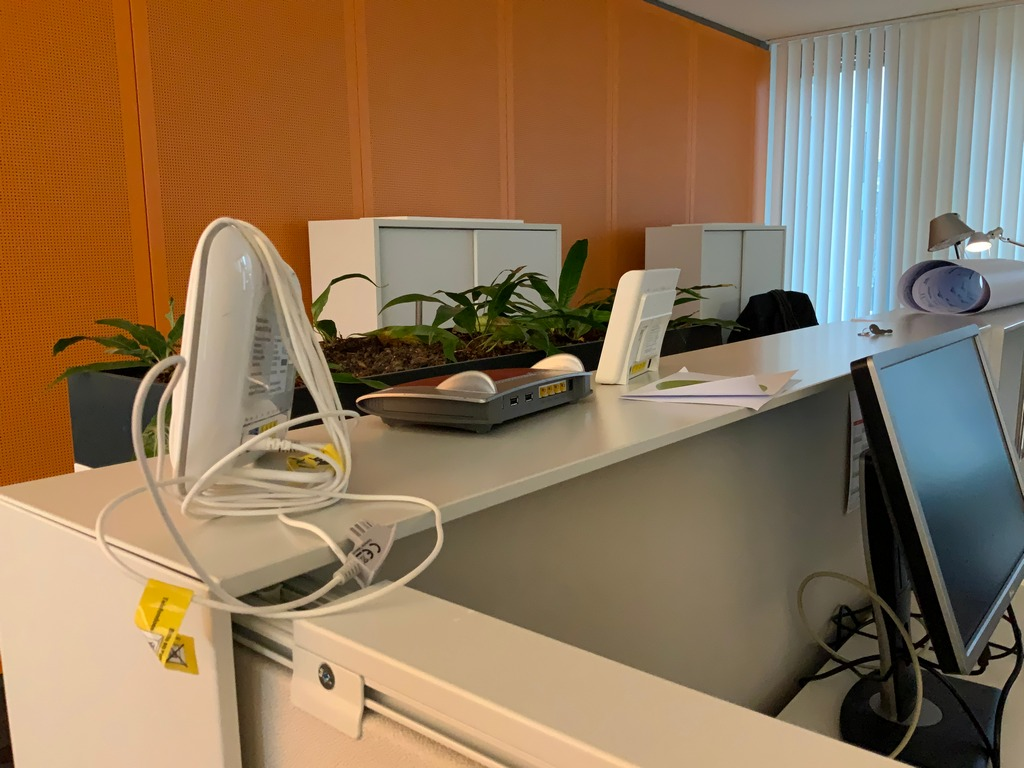Router2: (594, 265, 682, 387)
router: (165, 221, 303, 500)
router3: (353, 357, 597, 436)
